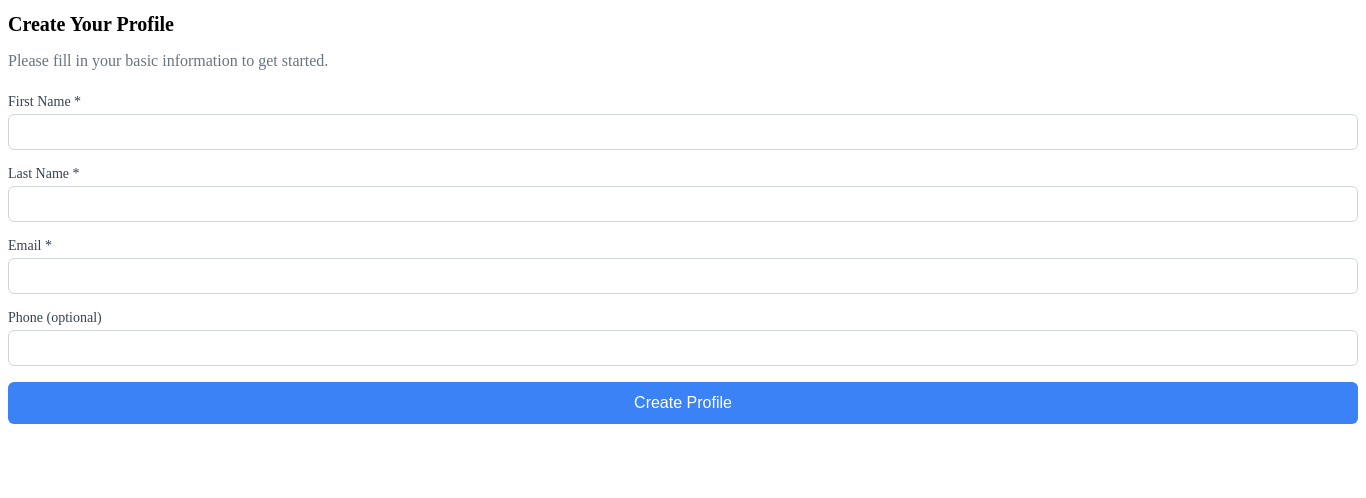
Test: Step1_ProfileForm › validation gates (§3.4) › should prevent submission when firstName is empty
Click the button with test id "step1-submit".
click(683, 403)  # box top-left (8, 382), bottom-right (1358, 424)
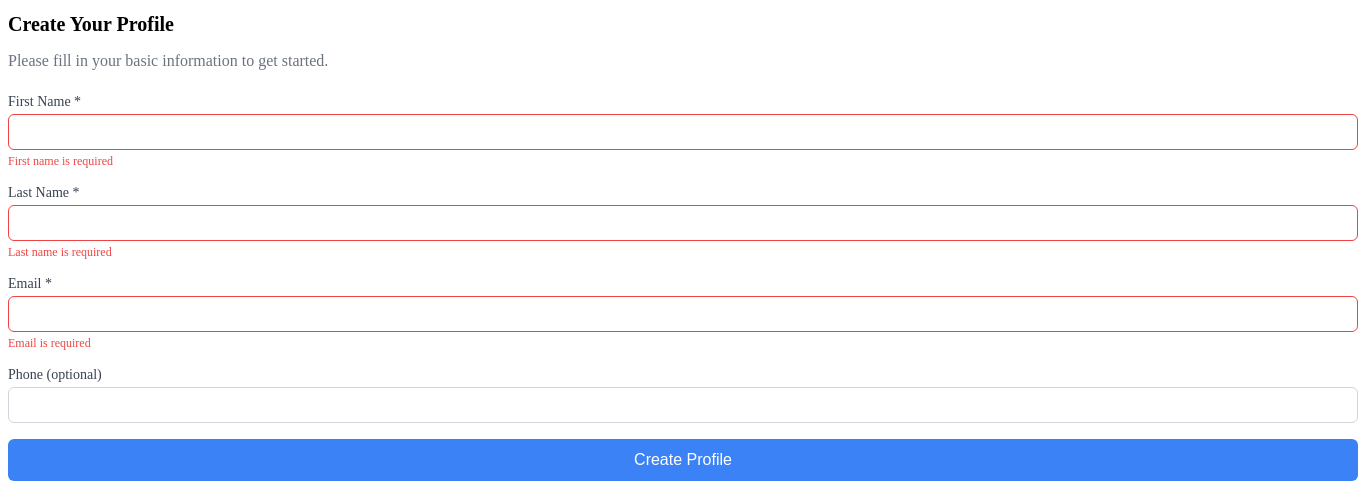
Expected: the text with test id "error-firstName" reads "First name is required", top-left (8, 154), bottom-right (113, 168)
